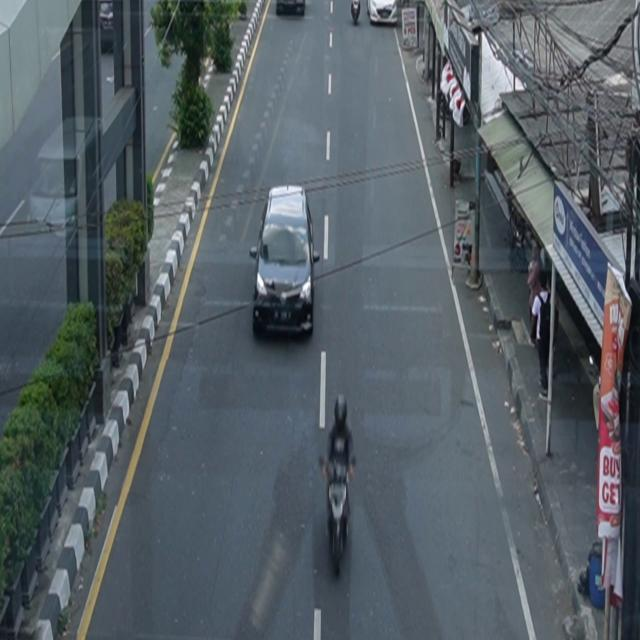car: (250, 184, 321, 339), (367, 1, 398, 26), (276, 1, 306, 16)
